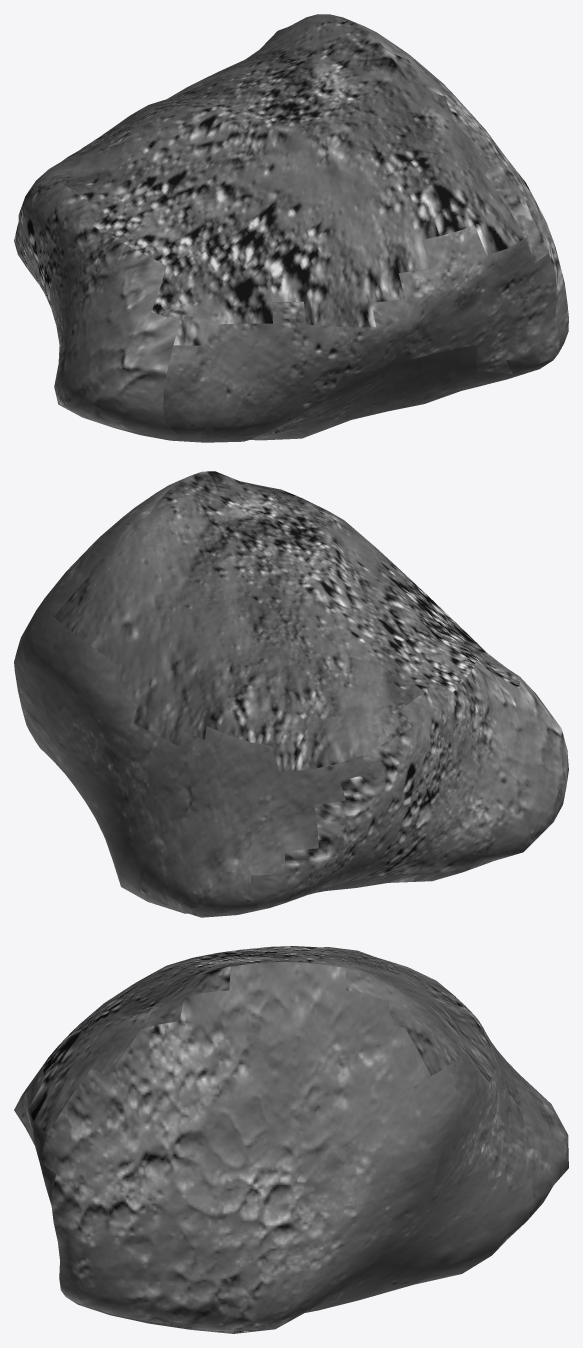
The model's file is Rock1.obj.
The picture shows the model from 3 angles, top to bottom: view 1: azimuth 30°, elevation 25°; view 2: azimuth 150°, elevation 25°; view 3: azimuth 270°, elevation 25°; orthographic projection. The views are drawn at different scales.
Visible parts, largest first — view 1: Rocks11; view 2: Rocks11; view 3: Rocks11.
Part boxes in pixels (box(x1,y1,x2,y2)): Rocks11: box(14, 14, 568, 442); Rocks11: box(14, 471, 568, 917); Rocks11: box(14, 946, 568, 1333).
Size of the model in its own units: 1.19 by 0.8299 by 1.14.
1 material, 1 textured.
